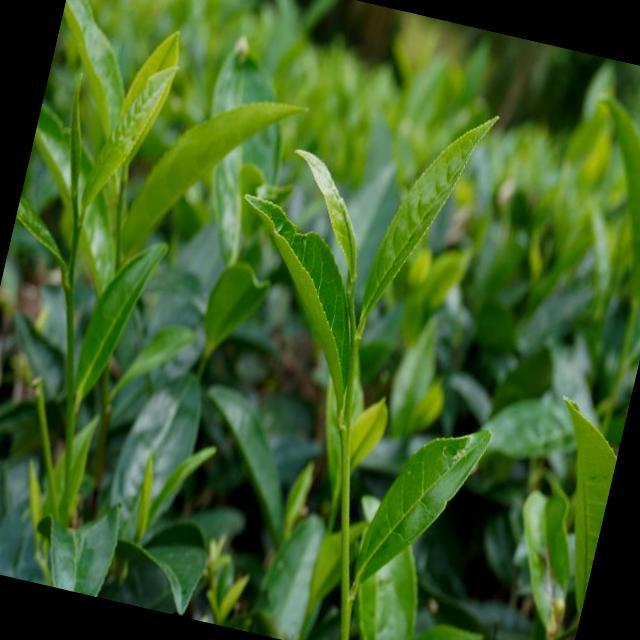Stem: (349, 332, 359, 370), (63, 286, 74, 318), (120, 180, 125, 208)
